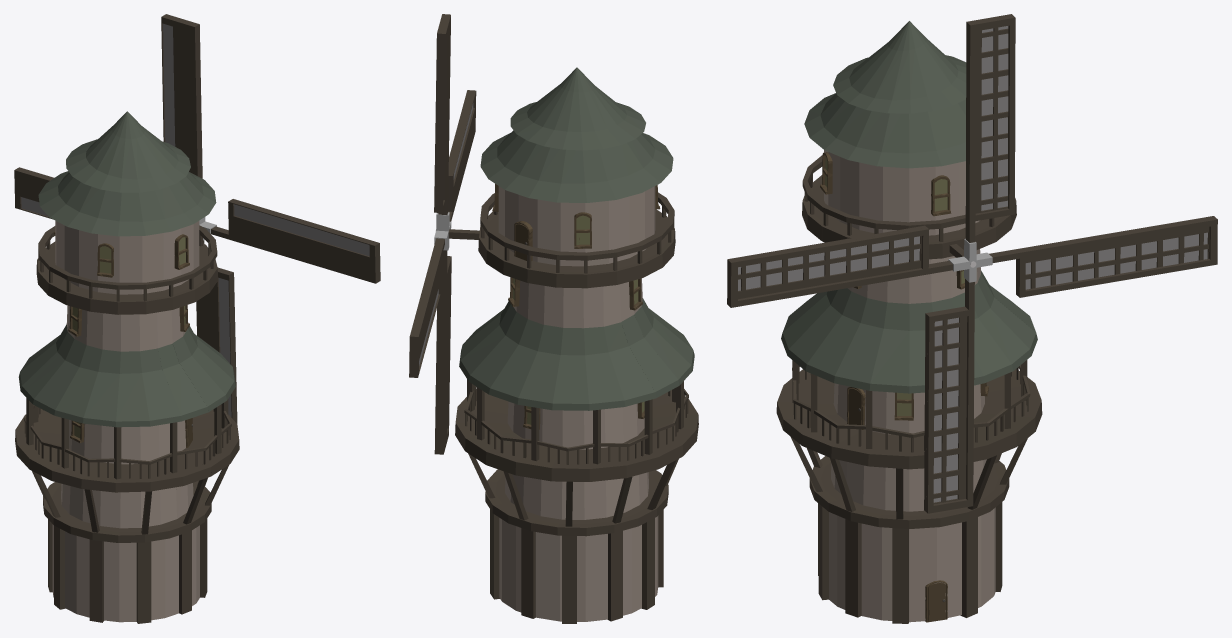
Rendered from Windmill_V1.fbx.
3 views of the same model, side by side, from view 1: azimuth 30°, elevation 25°; view 2: azimuth 150°, elevation 25°; view 3: azimuth 270°, elevation 25° (orthographic). The views are drawn at different scales.
Parts seen in each view (by area): view 1: Windmill; view 2: Windmill; view 3: Windmill.
Boxes of the visible parts, x1,y1,x2,y2 form: Windmill: [14, 14, 380, 623]; Windmill: [409, 14, 698, 623]; Windmill: [727, 14, 1217, 623].
Size of the model in its own units: 11.48 by 20.91 by 15.07.
